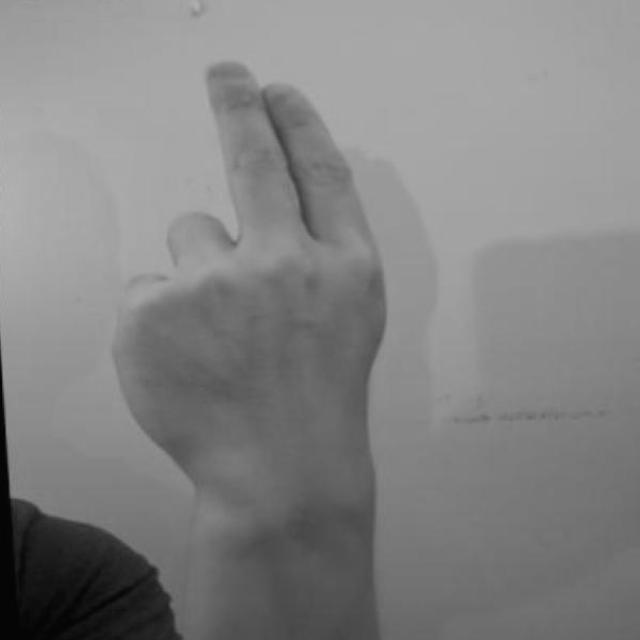U: (111, 54, 412, 640)
